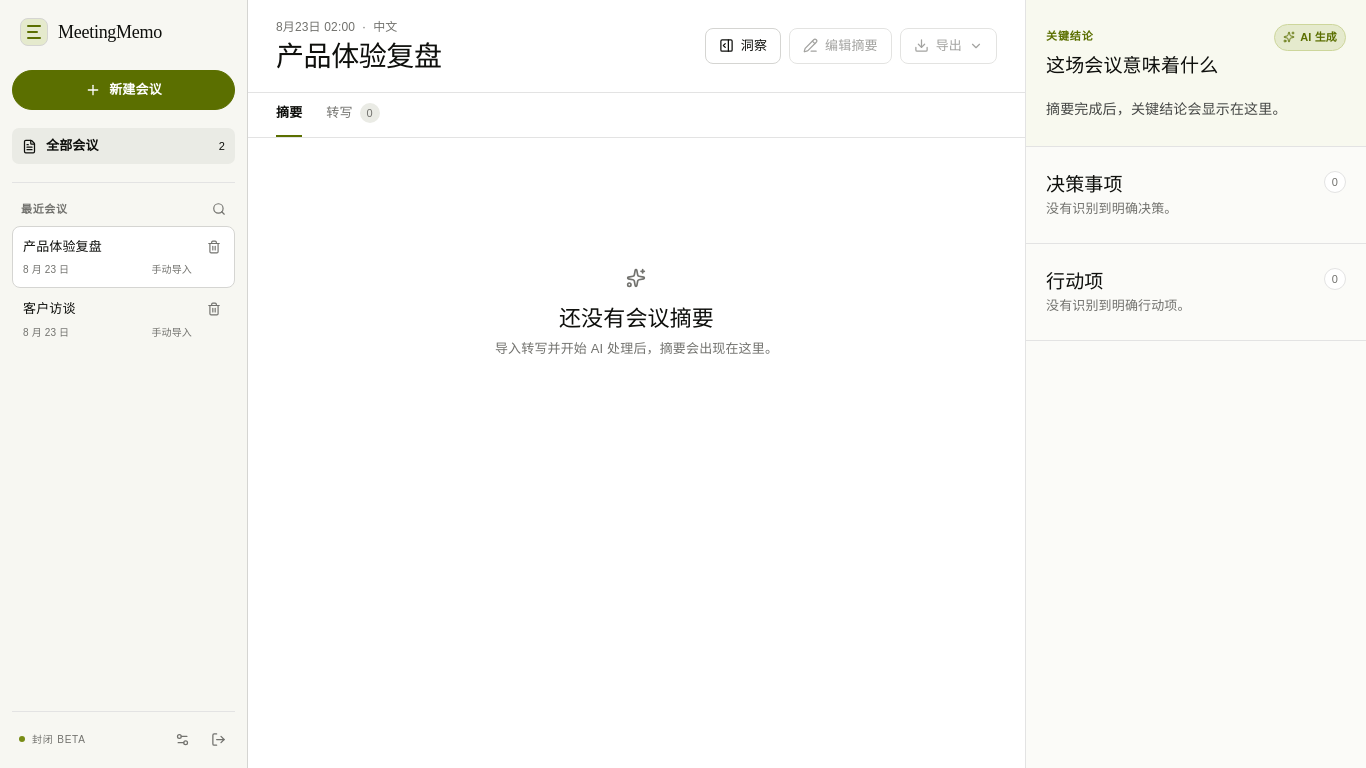
Test case: MeetingMemoApp › ignores a stale meeting response after a newer selection
Check: the heading "产品体验复盘" is shown, box [276,40,442,74]
Click the button with aria-label "打开会议 客户访谈" at [124, 319], box [12,288,235,350]
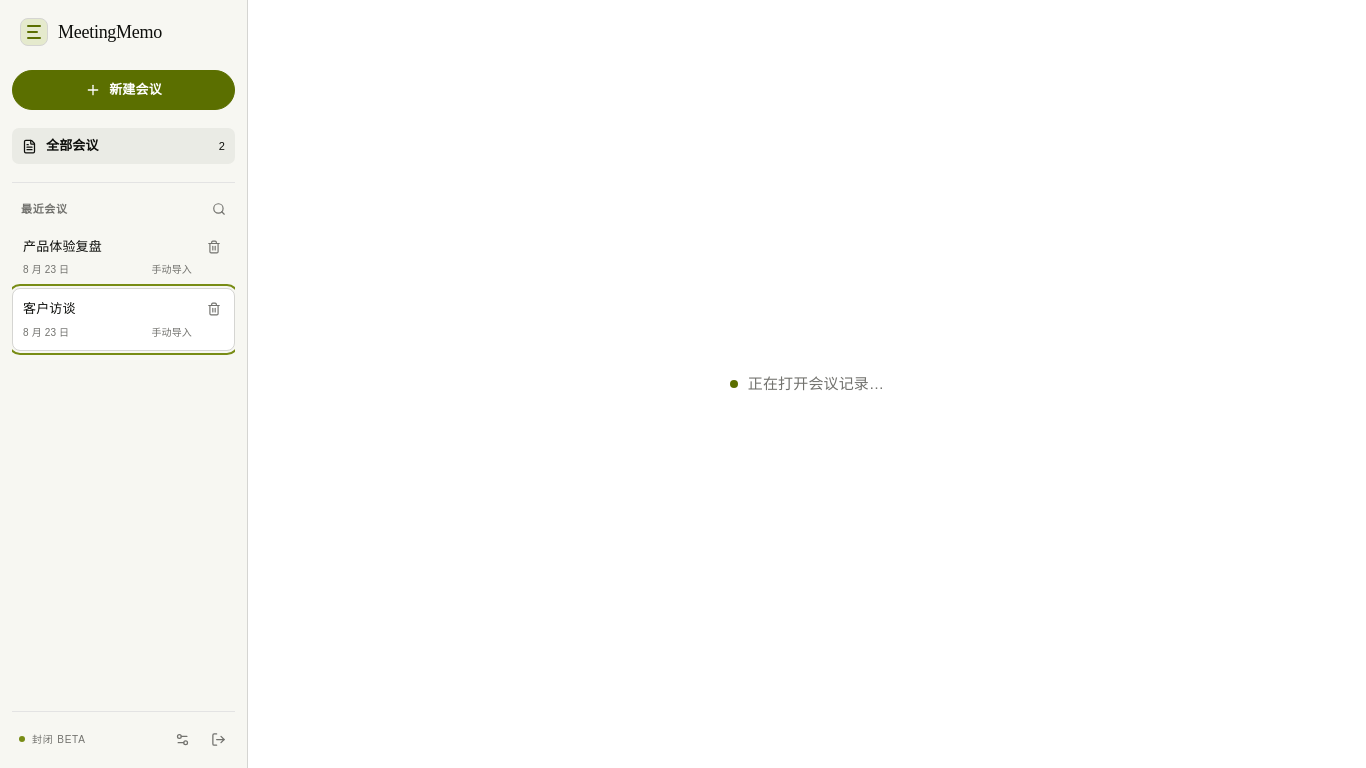
Click the button with aria-label "打开会议 产品体验复盘" at [124, 257], box [12,226,235,288]
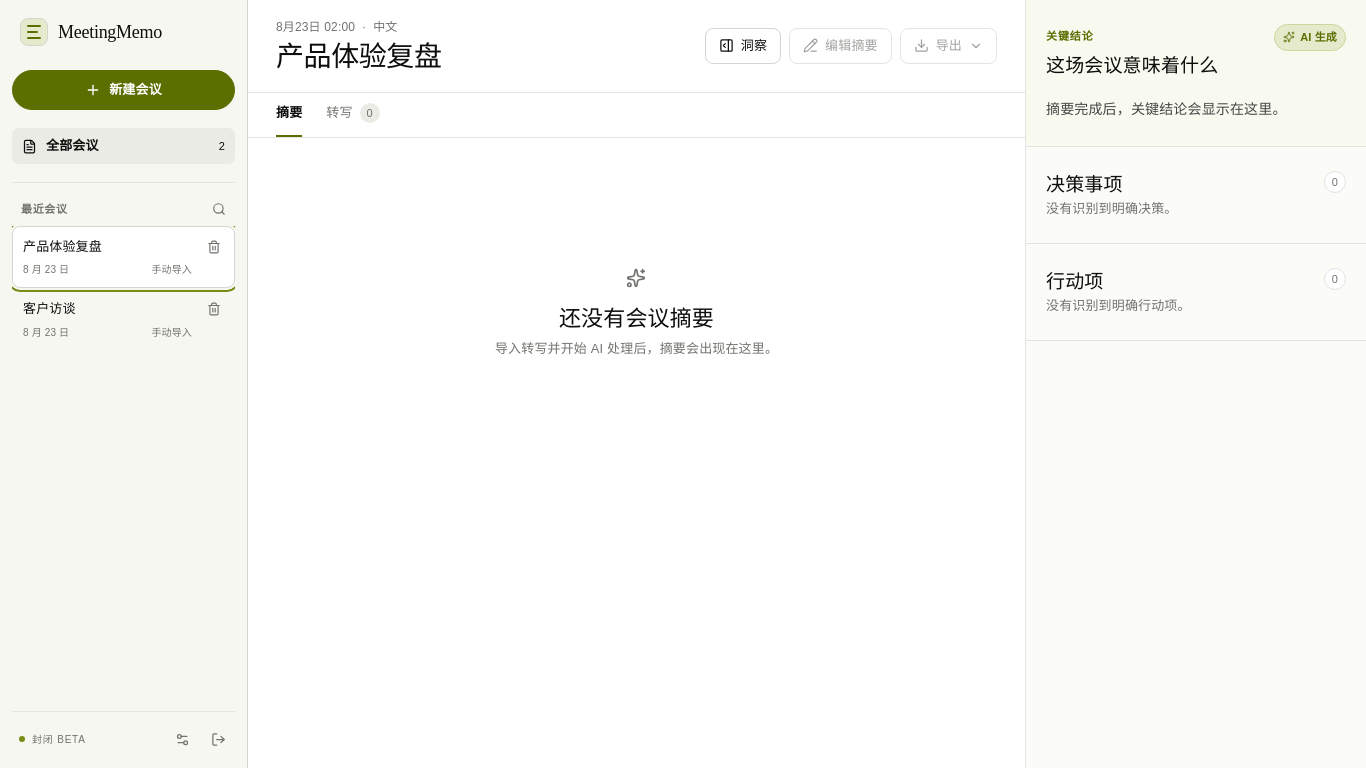
Check: the heading "产品体验复盘" is shown, box [276,40,442,74]
